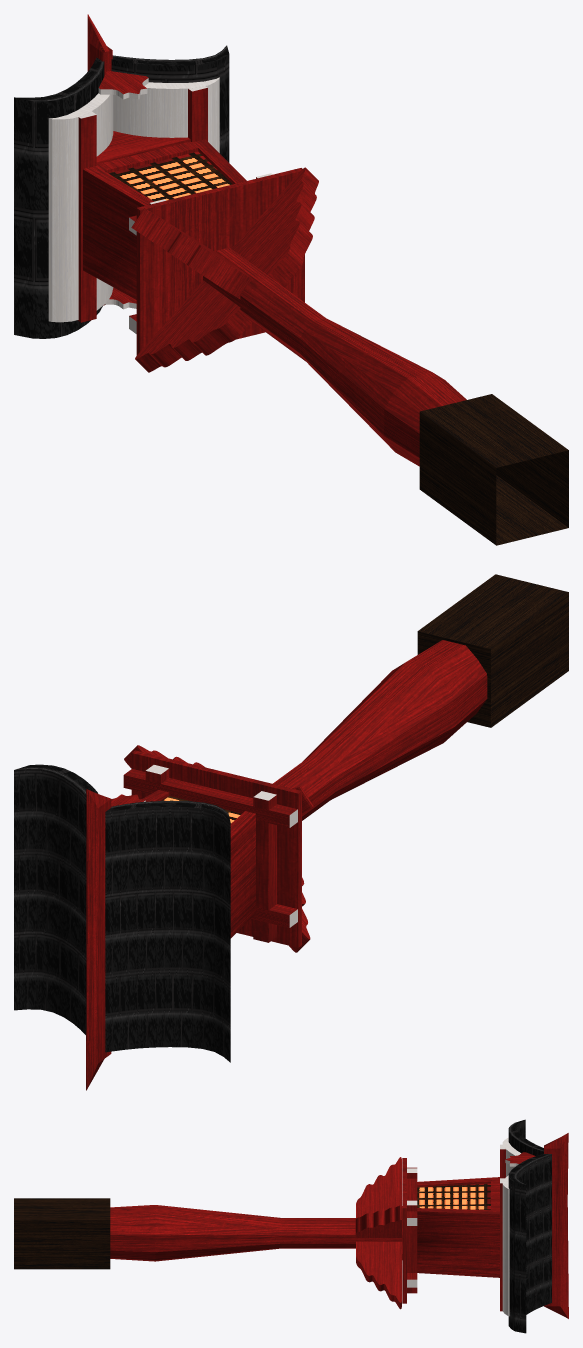
The model's file is LampModel.fbx.
3 renders of one model, top to bottom at view 1: azimuth 30°, elevation 25°; view 2: azimuth 150°, elevation 25°; view 3: azimuth 270°, elevation 25°, orthographic. The views are drawn at different scales.
Visible parts, largest first — view 1: Post Cube, Post, Roof, Under Roof, Lamp Body, Base Plate, Lamp Wings, Struts, Lamp Wings 2, Roof Ornament, Roof Gap, Cube; view 2: Roof, Post, Post Cube, Box002, Base Plate, Cube, Lamp Body; view 3: Post, Lamp Body, Roof, Post Cube, Lamp Wings 2, Cube, Box002, Under Roof, Lamp Wings, Base Plate, Struts.
Part boxes in pixels (<box>): Post Cube: <box>419,394,568,545</box>; Post: <box>203,247,466,466</box>; Roof: <box>14,45,229,338</box>; Under Roof: <box>48,77,219,322</box>; Lamp Body: <box>83,139,246,299</box>; Base Plate: <box>136,168,304,355</box>; Lamp Wings: <box>135,167,318,372</box>; Struts: <box>77,86,207,322</box>; Lamp Wings 2: <box>131,208,251,299</box>; Roof Ornament: <box>98,71,148,309</box>; Roof Gap: <box>96,131,190,164</box>; Cube: <box>87,14,112,305</box>; Roof: <box>14,764,230,1062</box>; Post: <box>273,640,487,820</box>; Post Cube: <box>417,574,568,727</box>; Box002: <box>123,765,297,942</box>; Base Plate: <box>131,750,301,947</box>; Cube: <box>86,789,111,1090</box>; Lamp Body: <box>141,790,255,938</box>; Post: <box>110,1205,402,1261</box>; Lamp Body: <box>417,1177,499,1277</box>; Roof: <box>508,1119,551,1333</box>; Post Cube: <box>14,1198,110,1269</box>; Lamp Wings 2: <box>356,1157,402,1309</box>; Cube: <box>544,1133,568,1318</box>; Box002: <box>407,1167,417,1293</box>; Under Roof: <box>502,1137,520,1316</box>; Lamp Wings: <box>355,1205,401,1237</box>; Base Plate: <box>402,1158,406,1303</box>; Struts: <box>500,1144,505,1311</box>.
Size of the model in its own units: 761 by 1016 by 2736.
